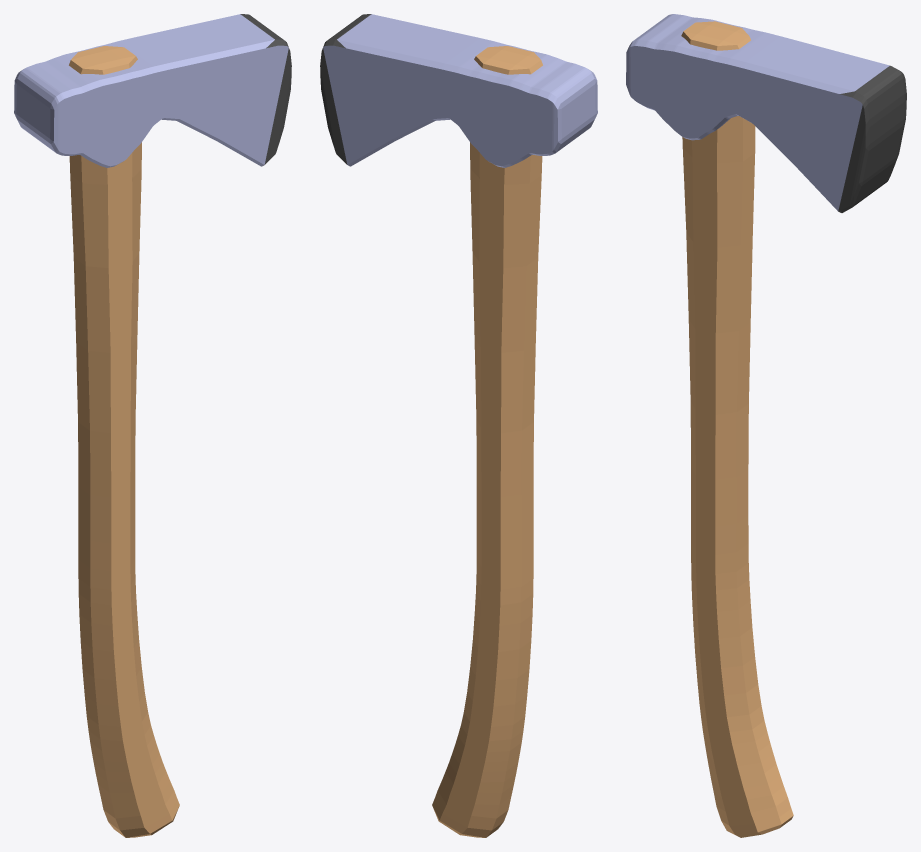
The model's file is axe.gltf.
3 renders of one model, left to right at view 1: azimuth 30°, elevation 25°; view 2: azimuth 150°, elevation 25°; view 3: azimuth 330°, elevation 25°, orthographic.
Visible parts, largest first — view 1: Cube.001; view 2: Cube.001; view 3: Cube.001.
Boxes of the visible parts, x1,y1,x2,y2 form: Cube.001: (14,14,291,837); Cube.001: (320,14,597,837); Cube.001: (626,14,906,837).
Size of the model in its own units: 1.39 by 4.34 by 0.4098.
